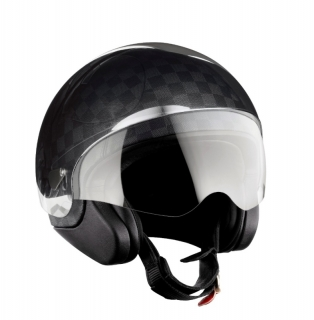helmet: (46, 51, 282, 255)
